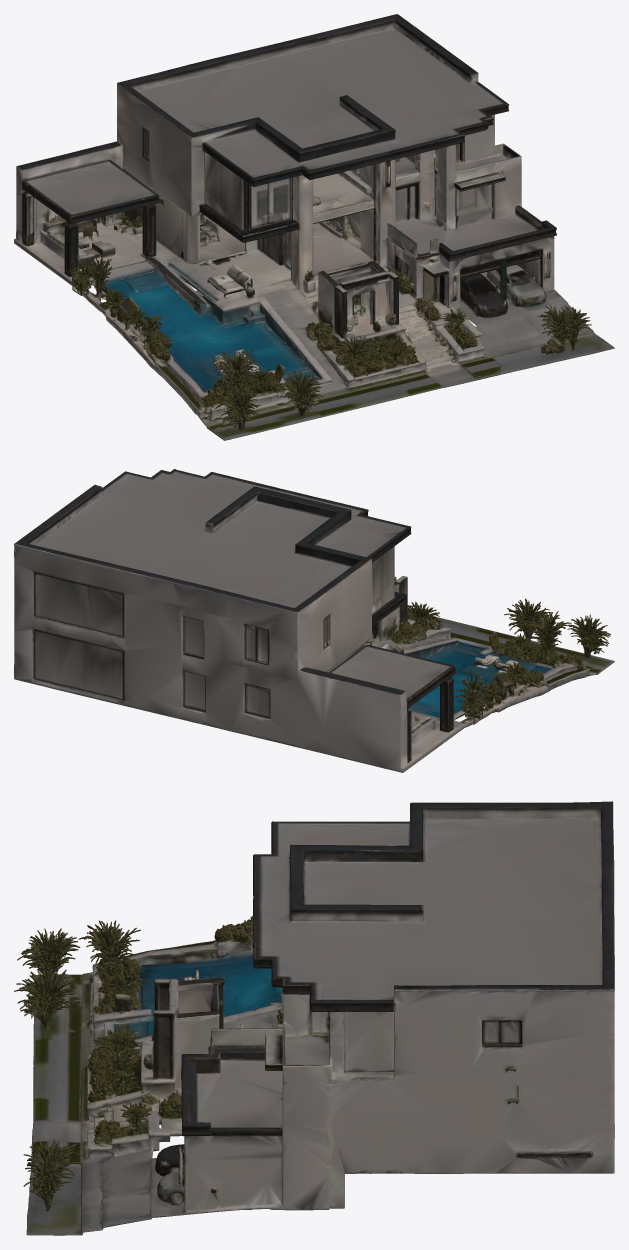
File: villa-house.glb
3 views of the same model, one above another, from view 1: azimuth 30°, elevation 25°; view 2: azimuth 150°, elevation 25°; view 3: azimuth 270°, elevation 25° (orthographic). The views are drawn at different scales.
Visible parts, largest first — view 1: mesh_node; view 2: mesh_node; view 3: mesh_node.
Part boxes in pixels (x1,y1,x2,y2): mesh_node: [14, 14, 614, 440]; mesh_node: [14, 469, 614, 772]; mesh_node: [14, 801, 614, 1235].
Size of the model in its own units: 1.92 by 0.8236 by 1.83.
1 material, 1 textured.
